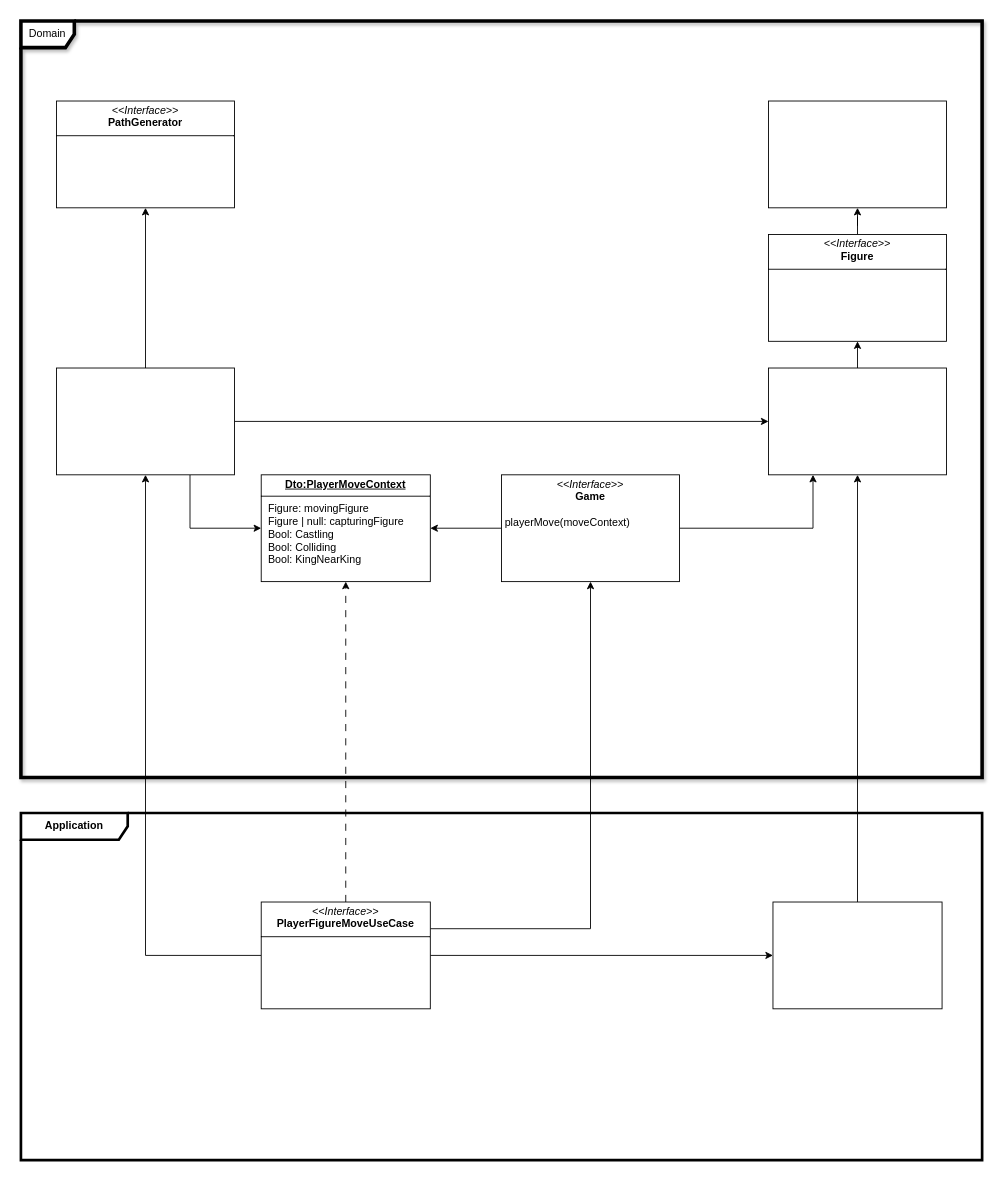
The diagram is 1004 pixels wide and 1177 high, and some of its shapes have lost their labels. The shapes that lost their labels are listed below. From the top down, each one's centre as x and y in pixels, then its label:
(857,154): <<Interface>> FigureMovement
(145,421): <<Interface>> MoveAnalyzer createMoveContext(from, to);
(857,421): <<Interface>> Board updateBoard(moveContext)
(857,955): <<Interface>> BoardFactory
